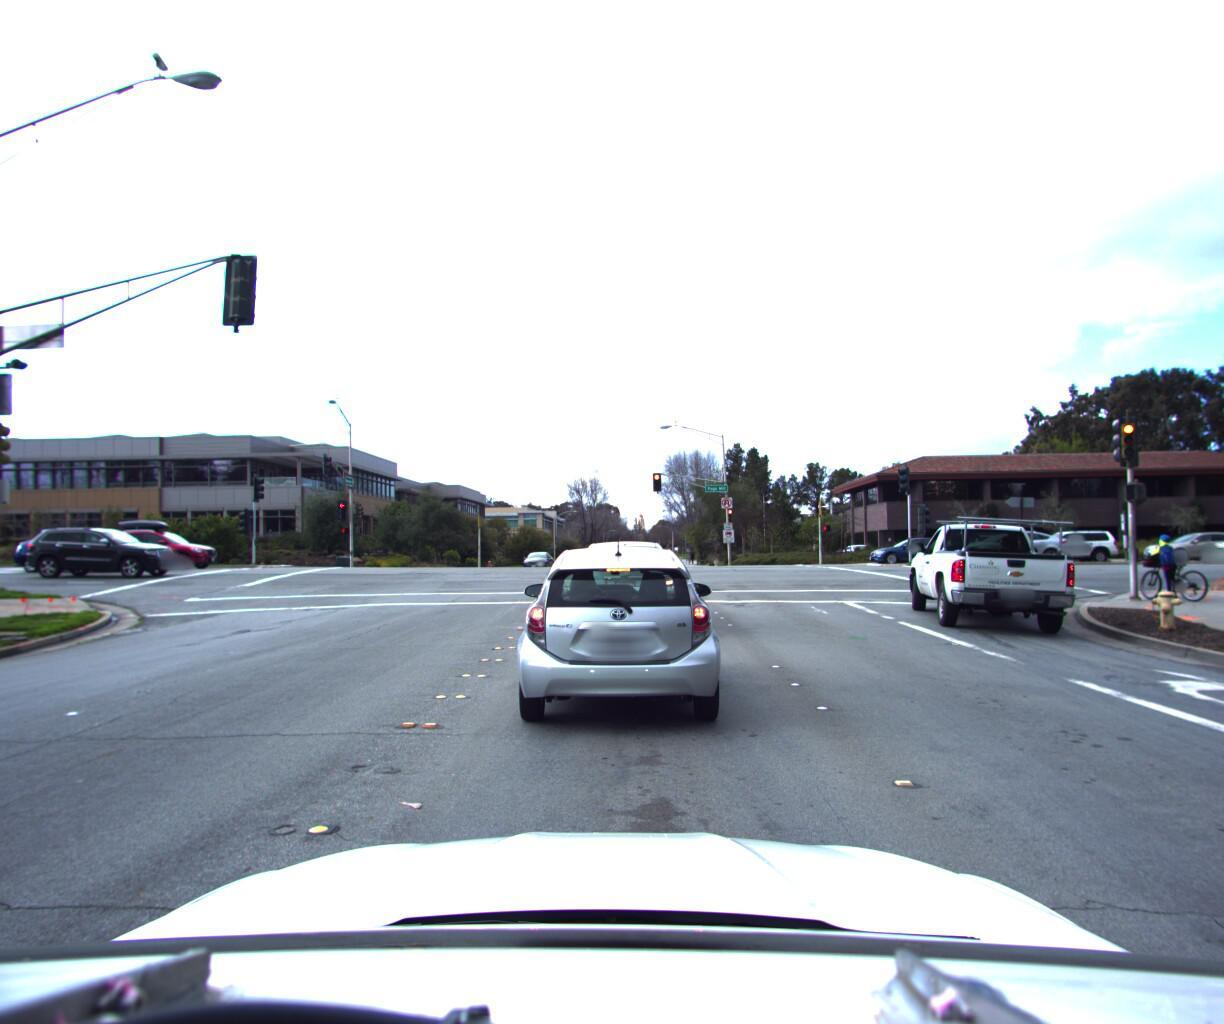bicycle: (1121, 526, 1217, 597)
car: (503, 536, 751, 741), (898, 500, 1093, 628), (560, 536, 701, 645), (17, 521, 192, 577), (3, 527, 143, 574), (97, 525, 228, 574), (946, 517, 1078, 564), (1012, 523, 1126, 560), (858, 531, 970, 565), (1127, 525, 1224, 558), (1197, 520, 1224, 559), (518, 547, 554, 571)
